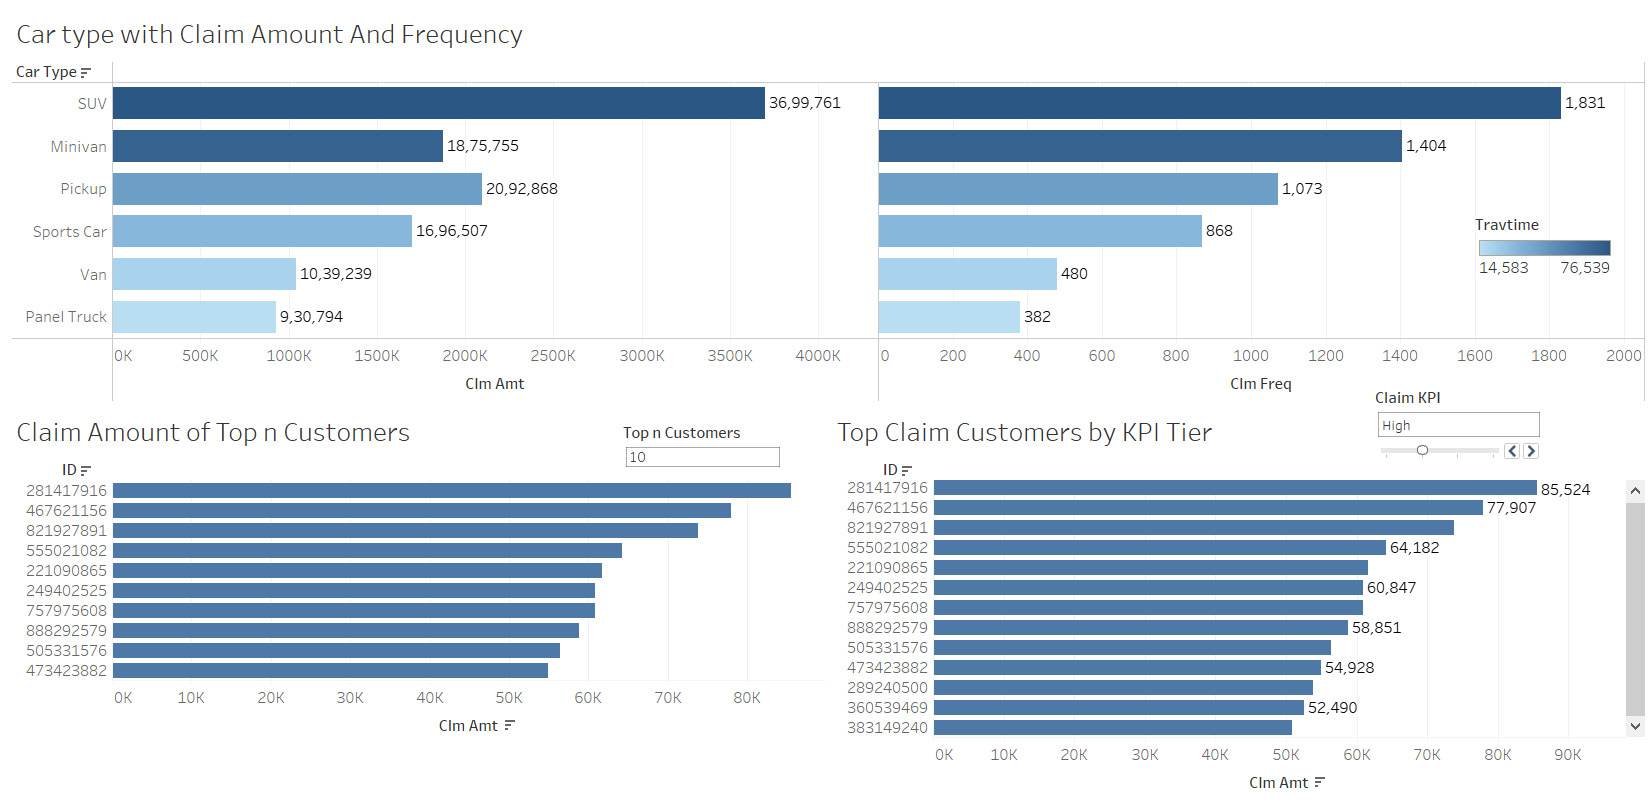

The dashboard page shown, as its layout file describes it:
{"tool":"tableau","page":{"name":"Dashboard 10","canvas":[1000,1000],"units":"permille","ordinal":2},"visuals":[{"type":"worksheet","title":"Car type with Claim Amount","mark":"Automatic","rows":["CAR_TYPE"],"cols":["CLM_AMT","CLM_FREQ"],"box":[4.8,9.9,990.3,490.1]},{"type":"legend","title":"Car type with Claim Amount","param":"[federated.0lzhxvz17u2lhw1cnu5fb04z8zkt].[sum:TRAVTIME:qk]","box":[890.2,263.9,84.5,108.5]},{"type":"filter","title":"Top Claim Customers by KPI Tier","param":"[federated.0lzhxvz17u2lhw1cnu5fb04z8zkt].[usr:Calculation_1042864802440568834:nk","box":[829.8,477.2,101.4,109.7]},{"type":"worksheet","title":"Claim Amount of Top n Customers","mark":"Automatic","rows":["ID"],"cols":["CLM_AMT"],"box":[4.8,500,495.2,490.1]},{"type":"worksheet","title":"Top Claim Customers by KPI Tier","mark":"Automatic","rows":["ID"],"cols":["CLM_AMT"],"box":[500,500,495.2,490.1]},{"type":"parameter","param":"[Parameters].[Parameter 3]","box":[376,520.4,96.6,59.2]}]}

Visuals, with their boxes on the dashboard's canvas, which has no fixed pixel size, in thousandths of its width and height (x1, y1, x2, y2). These are canvas units, not pixel positions in the 1652x803 screenshot, which may show the page scaled, cropped or inside an application window:
"Car type with Claim Amount" worksheet: <bbox>5, 10, 995, 500</bbox>
"Car type with Claim Amount" legend: <bbox>890, 264, 975, 372</bbox>
"Top Claim Customers by KPI Tier" filter: <bbox>830, 477, 931, 587</bbox>
"Claim Amount of Top n Customers" worksheet: <bbox>5, 500, 500, 990</bbox>
"Top Claim Customers by KPI Tier" worksheet: <bbox>500, 500, 995, 990</bbox>
parameter: <bbox>376, 520, 473, 580</bbox>
